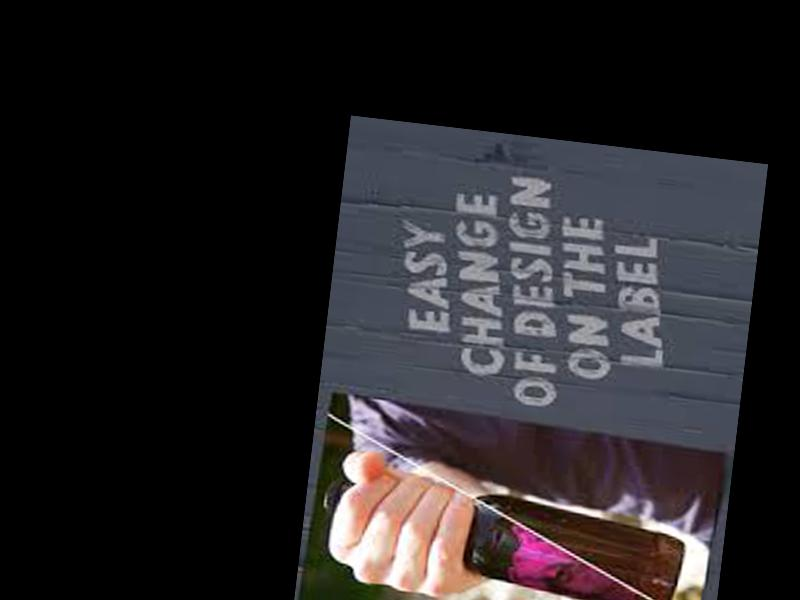Beer: (318, 473, 688, 600)
